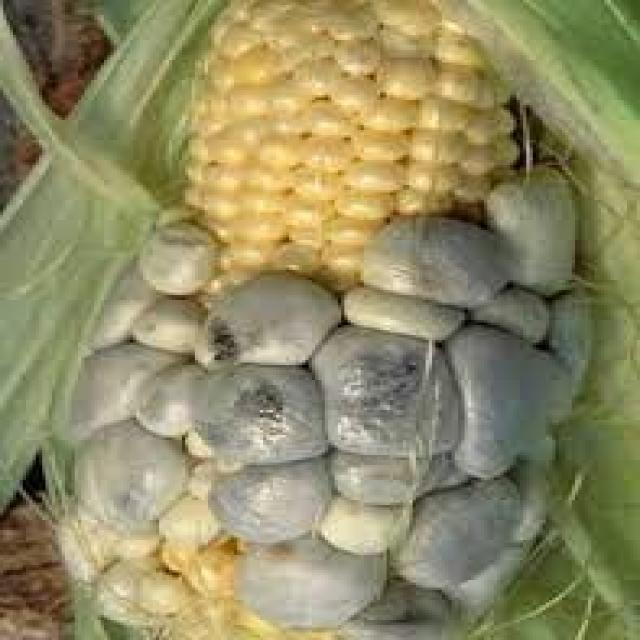Leaf_Scald: (50, 12, 584, 640)
